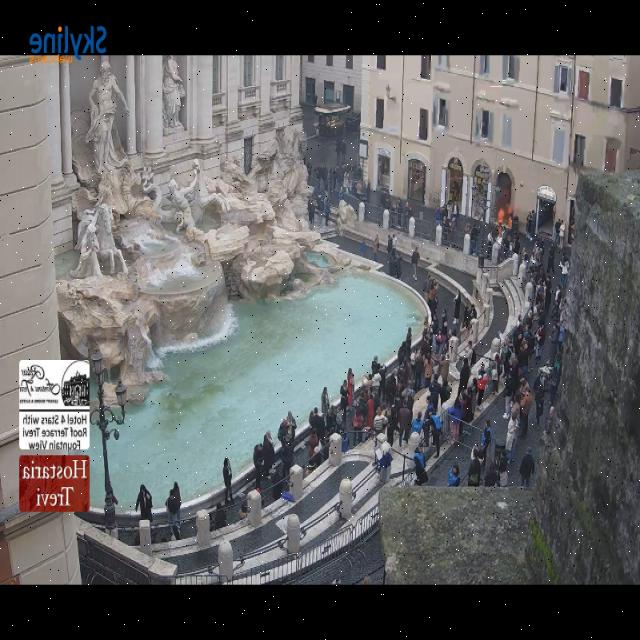person: (489, 311, 534, 388), (352, 375, 385, 437), (400, 318, 431, 382), (419, 320, 447, 388), (508, 315, 531, 382), (386, 356, 414, 410), (397, 338, 424, 392), (526, 285, 545, 358), (432, 330, 455, 388), (496, 205, 519, 261), (467, 365, 489, 423), (523, 239, 549, 287), (525, 237, 549, 287), (350, 385, 371, 441), (457, 379, 476, 439), (520, 240, 545, 285), (487, 211, 507, 262), (396, 343, 415, 395), (391, 343, 409, 395), (499, 205, 519, 251), (497, 220, 519, 261), (423, 272, 438, 332), (423, 271, 438, 331), (513, 310, 532, 355), (533, 278, 551, 325), (518, 316, 531, 381), (426, 404, 441, 457), (418, 315, 437, 355), (547, 353, 561, 405), (491, 219, 509, 259), (519, 390, 533, 438), (400, 363, 414, 410), (165, 490, 179, 537), (503, 218, 519, 258), (447, 397, 461, 442), (423, 279, 438, 321), (397, 403, 411, 448), (505, 415, 518, 463), (502, 372, 515, 418), (413, 443, 427, 485), (135, 485, 151, 521), (417, 317, 431, 358), (533, 372, 543, 428), (519, 448, 533, 488), (262, 431, 274, 477), (499, 337, 512, 379), (406, 350, 419, 392), (331, 403, 347, 437), (532, 278, 544, 323), (521, 244, 540, 272), (385, 193, 400, 228), (309, 408, 324, 442), (506, 218, 519, 257), (532, 285, 544, 327), (496, 224, 509, 262), (476, 364, 487, 408), (386, 404, 398, 443), (516, 339, 528, 378), (468, 448, 480, 487), (462, 388, 475, 424), (252, 444, 262, 490), (359, 386, 371, 424), (556, 298, 567, 339), (530, 233, 544, 265), (381, 403, 397, 431), (355, 390, 367, 427), (352, 408, 363, 447), (222, 457, 231, 503), (281, 442, 292, 479), (552, 208, 563, 245), (307, 445, 321, 474), (372, 408, 387, 435), (510, 388, 520, 428), (490, 355, 500, 395), (434, 330, 445, 365), (320, 166, 332, 198), (383, 372, 395, 404), (428, 377, 439, 411), (422, 351, 432, 388), (353, 164, 364, 197), (492, 220, 507, 244), (549, 366, 558, 405), (414, 351, 423, 390), (314, 440, 327, 467), (316, 166, 330, 191), (439, 352, 449, 387), (484, 462, 498, 487), (535, 324, 545, 358), (313, 190, 323, 224), (435, 362, 448, 388), (337, 164, 349, 192), (467, 378, 478, 408), (480, 419, 491, 449), (523, 310, 533, 342), (172, 482, 180, 522), (371, 365, 381, 397), (410, 411, 423, 435), (459, 358, 469, 389), (378, 365, 387, 399), (365, 392, 373, 430), (497, 458, 507, 488), (446, 464, 459, 487), (518, 378, 529, 405), (338, 165, 349, 192), (325, 406, 335, 435), (308, 429, 318, 458), (453, 289, 461, 325), (214, 503, 225, 529), (476, 362, 491, 381), (277, 417, 287, 445), (484, 231, 494, 259), (402, 200, 411, 231), (336, 165, 347, 190), (544, 277, 551, 316), (320, 388, 328, 421), (470, 225, 479, 254), (544, 406, 553, 435), (346, 368, 353, 405), (560, 256, 568, 288), (340, 380, 347, 416), (467, 340, 476, 368), (423, 272, 431, 303), (287, 411, 295, 442), (312, 165, 321, 191), (312, 166, 321, 192), (397, 200, 405, 229), (397, 342, 406, 367), (411, 248, 418, 279), (362, 374, 372, 395), (547, 244, 554, 274), (319, 166, 327, 192), (554, 285, 562, 311), (496, 205, 503, 234), (528, 210, 535, 239), (324, 169, 333, 191), (388, 248, 395, 276), (557, 220, 564, 248), (557, 325, 564, 352), (308, 197, 314, 228), (511, 232, 519, 255), (462, 305, 470, 328), (451, 202, 458, 228), (552, 219, 559, 245), (440, 310, 447, 336), (389, 202, 396, 228), (520, 248, 528, 270), (525, 211, 531, 239), (347, 166, 353, 194), (373, 235, 379, 262), (395, 252, 401, 279), (321, 182, 328, 205), (404, 326, 411, 349), (322, 165, 329, 188), (354, 177, 361, 199), (332, 168, 339, 190), (371, 356, 379, 375), (302, 156, 310, 175), (340, 171, 347, 192), (423, 413, 428, 442), (354, 164, 362, 181), (239, 502, 247, 519), (386, 235, 391, 262), (312, 165, 321, 179), (462, 223, 470, 238), (340, 140, 345, 164), (324, 202, 329, 225), (434, 206, 440, 225), (335, 139, 339, 164), (312, 165, 319, 179), (308, 411, 313, 430), (365, 180, 369, 202), (360, 240, 365, 257), (338, 186, 343, 202), (469, 305, 475, 318), (361, 576, 370, 584), (306, 162, 311, 176), (392, 233, 396, 249), (331, 578, 340, 584), (112, 495, 117, 505), (112, 496, 117, 504), (546, 277, 549, 282)
